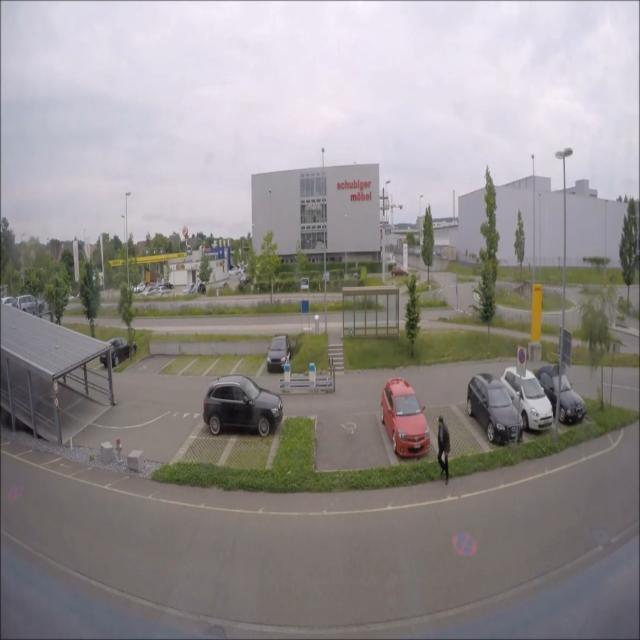space-empty: (311, 410, 387, 472), (426, 397, 474, 458), (182, 340, 212, 384), (165, 346, 191, 378), (205, 356, 230, 386), (240, 350, 262, 382)
space-occupied: (462, 373, 522, 451), (203, 382, 280, 434), (379, 396, 436, 464), (512, 368, 554, 428), (548, 360, 586, 426), (266, 331, 290, 376)
